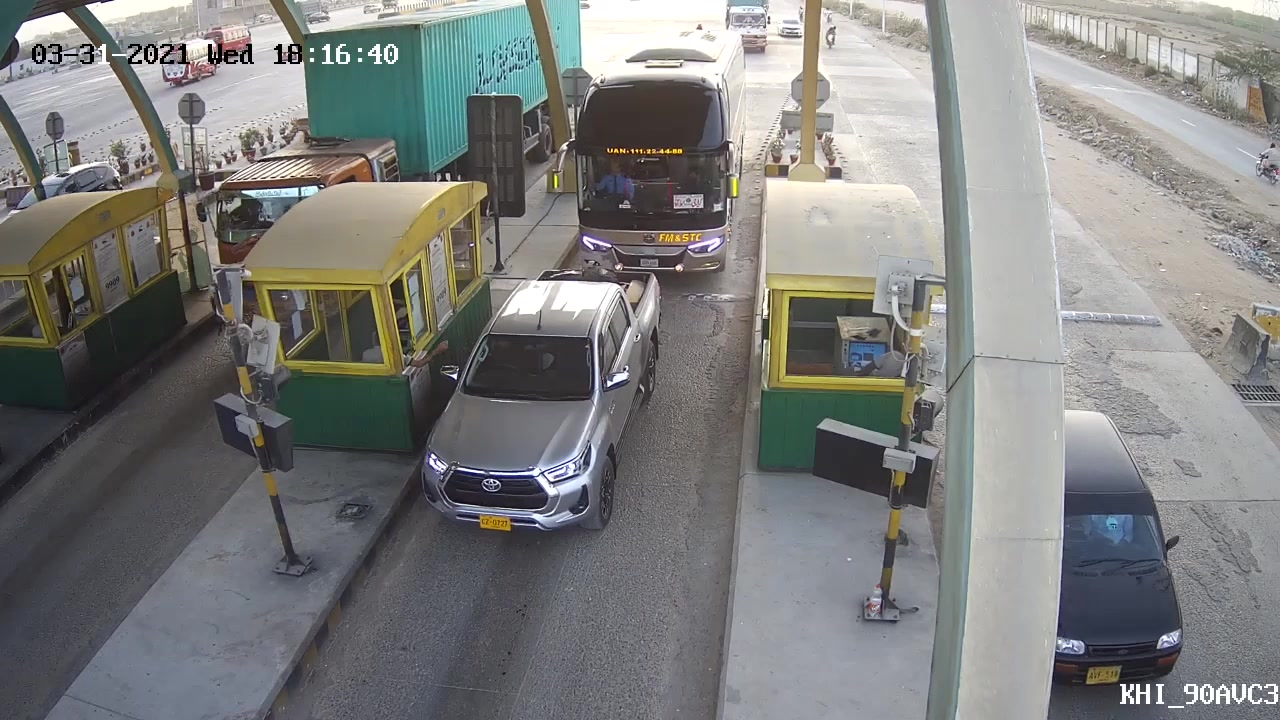F1: (410, 260, 669, 537)
F4: (568, 24, 743, 282)
